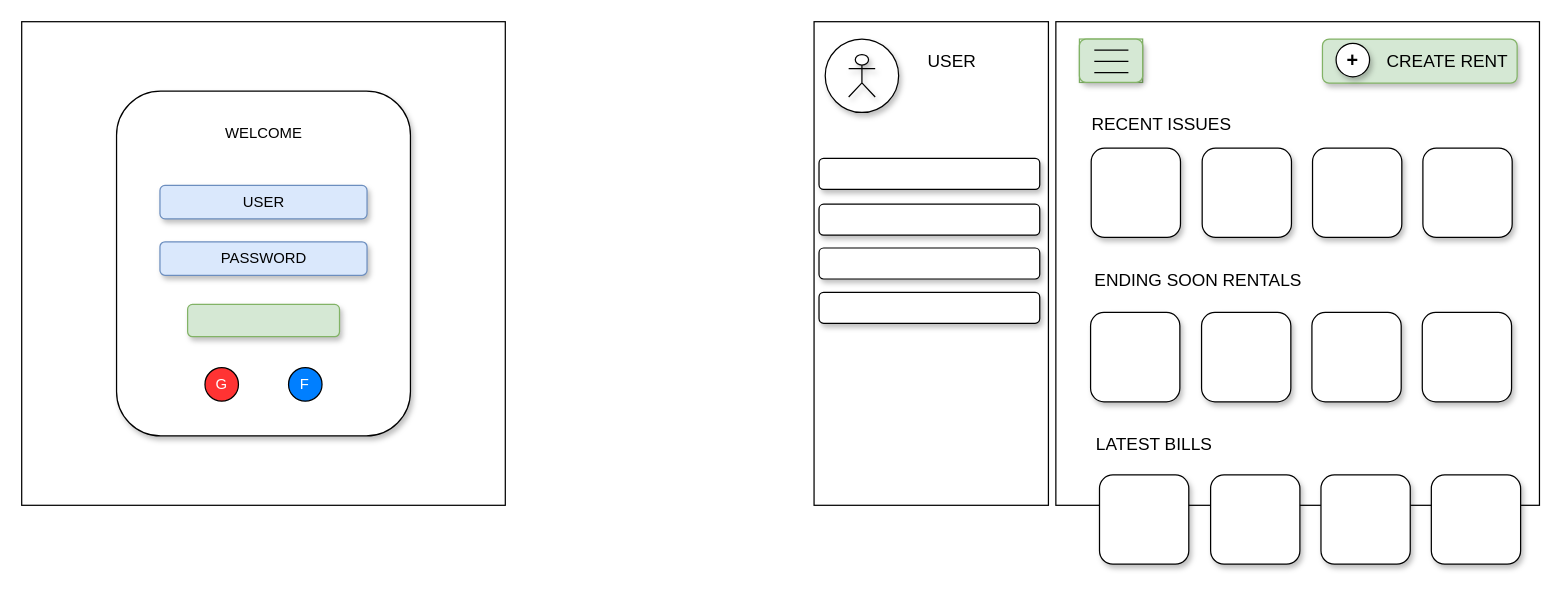
Some shapes in this 1561 by 595 pixel diagram are drawn without their labels. Each missing label, with the centre of its shape:
"Actor" goes at point (862, 77).
"LOGIN" goes at point (264, 321).
